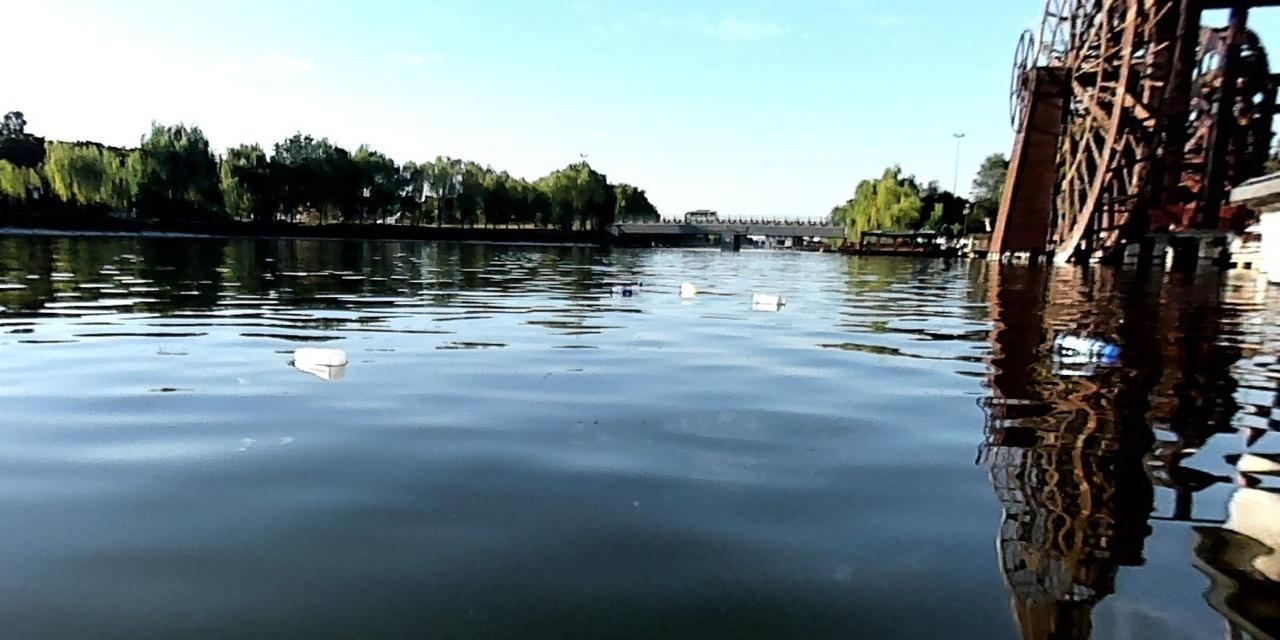bottle: (1048, 330, 1121, 360), (288, 342, 349, 366), (748, 289, 787, 305), (605, 281, 641, 298)
